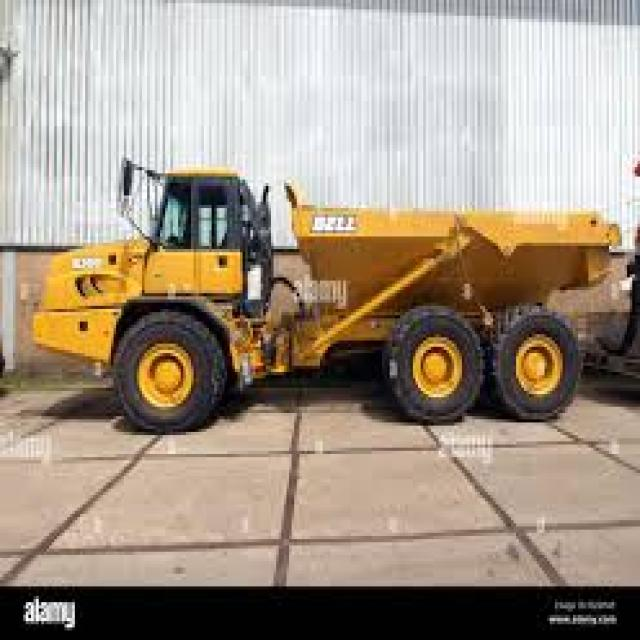dump_truck: (26, 142, 609, 457)
